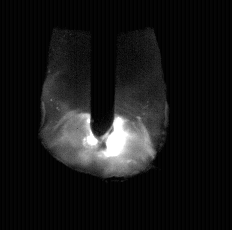arame: (92, 0, 115, 135)
poca: (41, 0, 169, 230)
